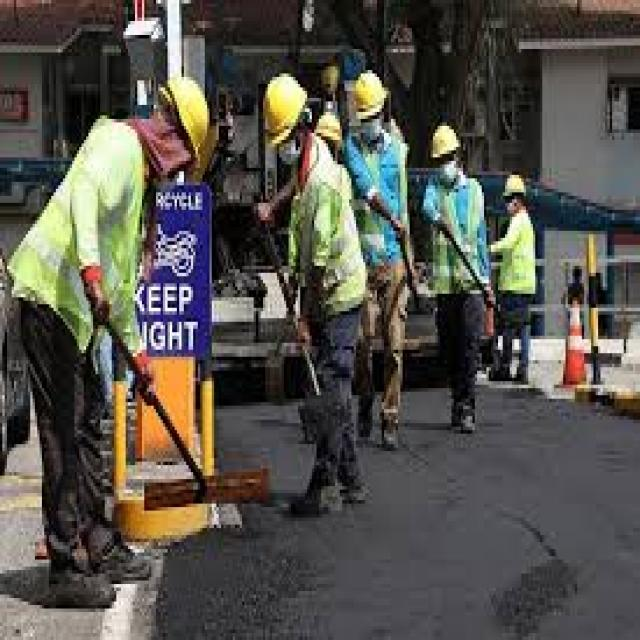Reflective-Jacket: (0, 112, 165, 343), (277, 136, 377, 332), (421, 171, 491, 308), (494, 210, 544, 304)
Safety-Helmet: (149, 59, 223, 175), (252, 63, 316, 157), (344, 63, 398, 129), (423, 116, 468, 172), (498, 164, 533, 210)
